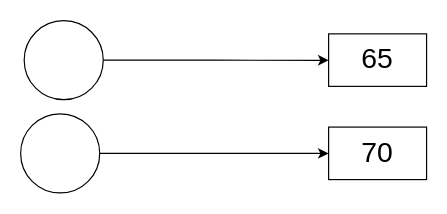
The diagram is 447 pixels wide and 214 high, and some of its shapes have lost their labels. Each missing label, with the centre of its shape:
已关闭: the point at 63,59
已合并: the point at 59,153
